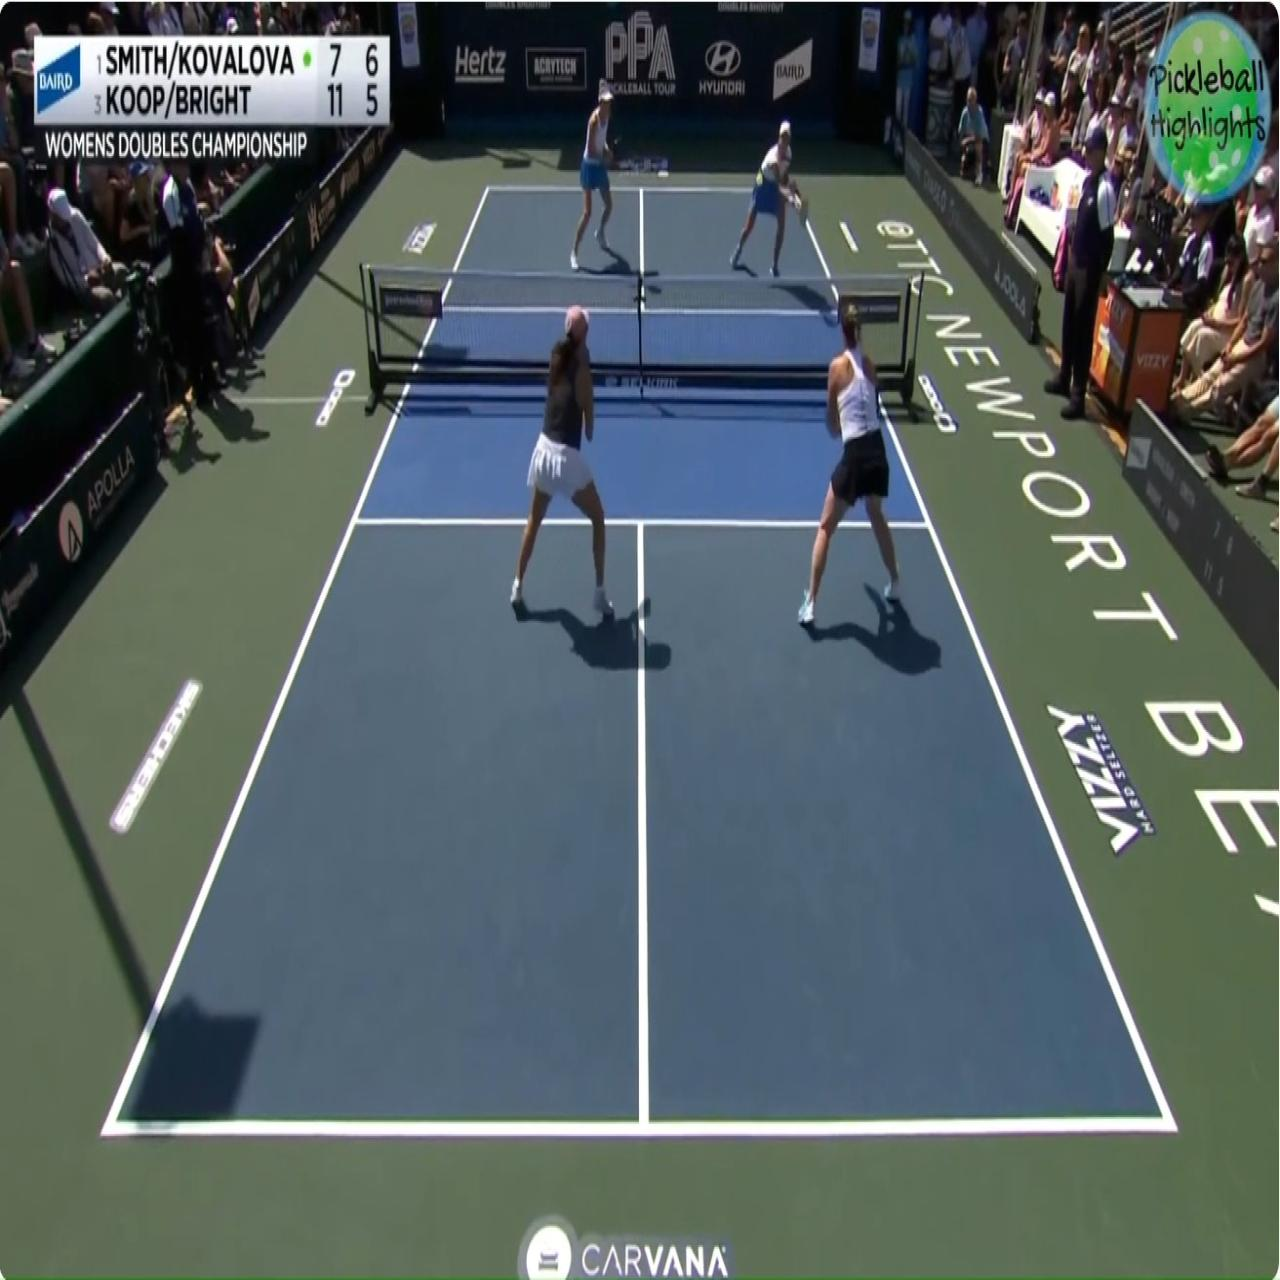pickleball: (756, 171, 763, 185)
